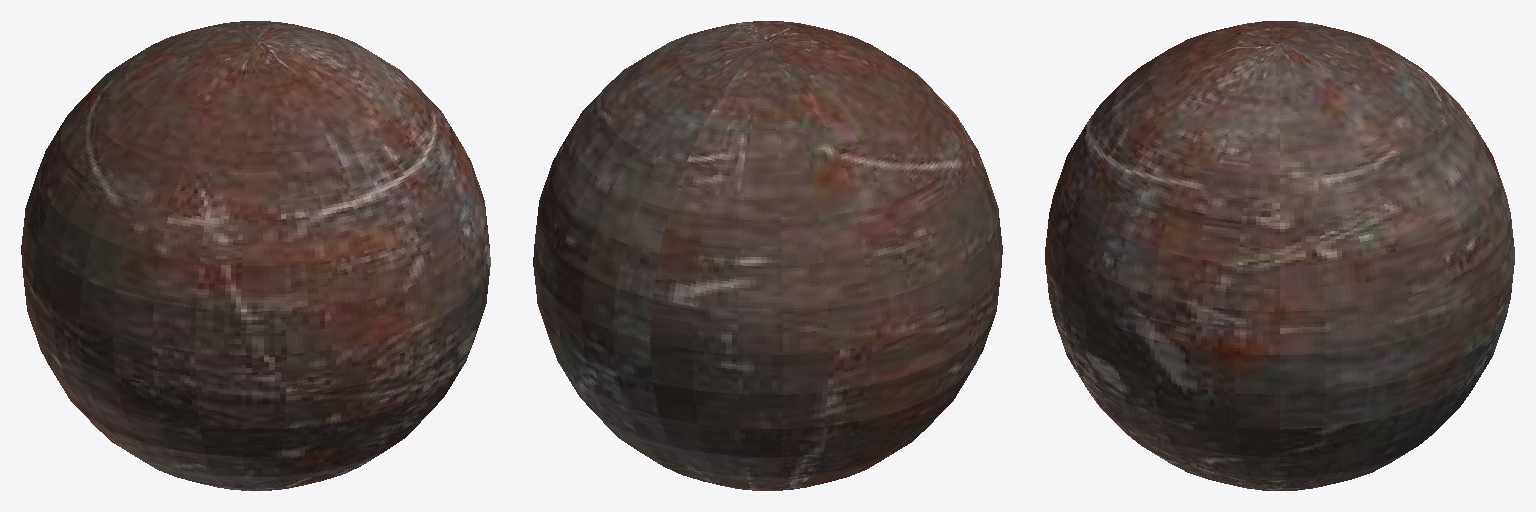
3 renders of one model, left to right at view 1: azimuth 30°, elevation 25°; view 2: azimuth 150°, elevation 25°; view 3: azimuth 270°, elevation 25°, orthographic.
Visible parts, largest first — view 1: Sphere001; view 2: Sphere001; view 3: Sphere001.
Boxes of the visible parts, box(x1,y1,x2,y2) form: Sphere001: box(21, 21, 490, 490); Sphere001: box(533, 21, 1002, 490); Sphere001: box(1045, 21, 1514, 490).
Bounding box in the file's own units: 0.732 × 0.732 × 0.732.
Materials: 1 (1 with a texture image).